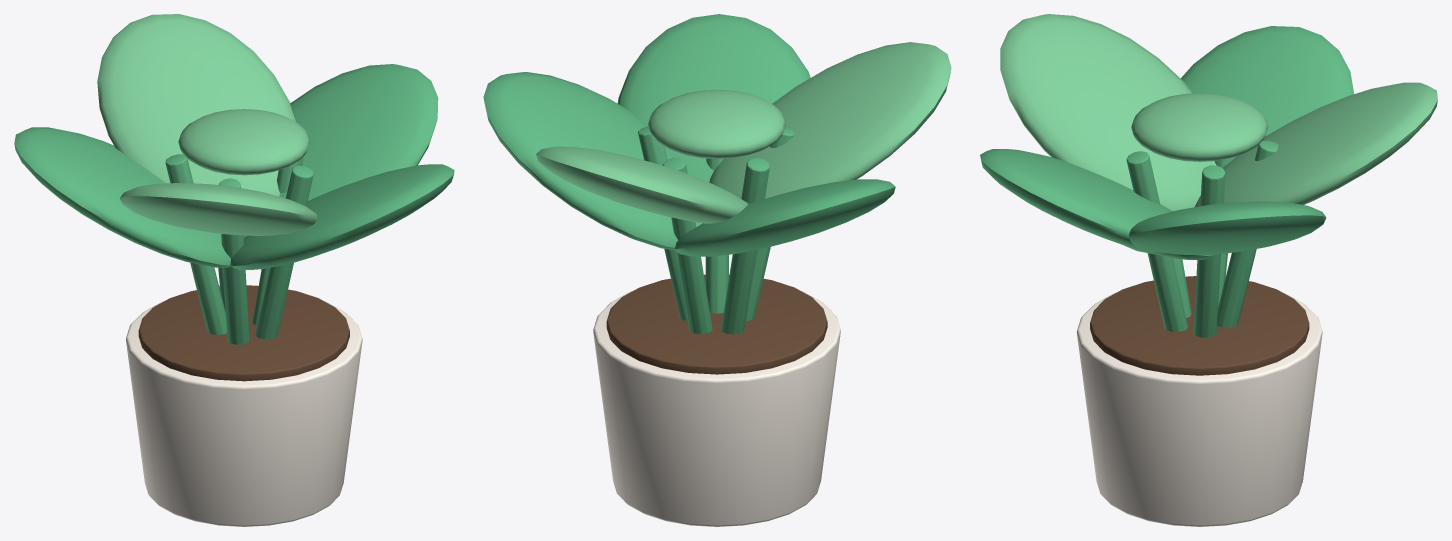
The model's file is monstera.glb.
3 renders of one model, left to right at view 1: azimuth 30°, elevation 25°; view 2: azimuth 150°, elevation 25°; view 3: azimuth 270°, elevation 25°, orthographic. The views are drawn at different scales.
Visible parts, largest first — view 1: monstera; view 2: monstera; view 3: monstera.
Part boxes in pixels (x1,y1,x2,y2): monstera: (14,14,454,526); monstera: (483,14,951,526); monstera: (980,14,1437,526).
Size of the model in its own units: 1.35 by 1.29 by 1.34.
